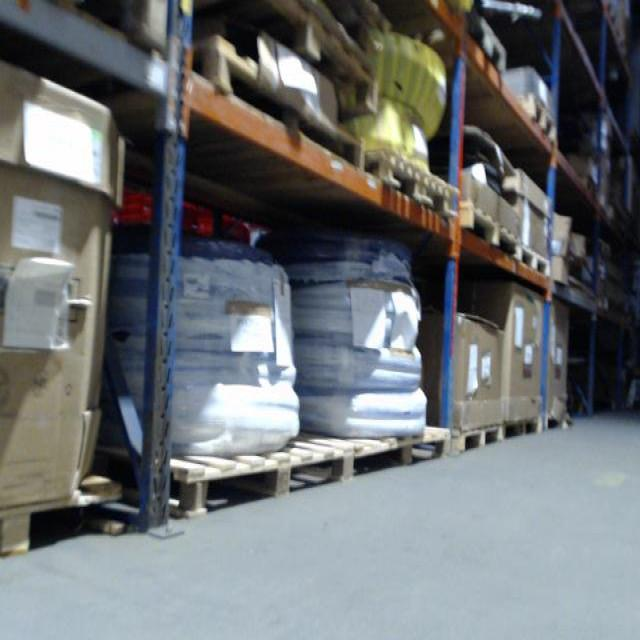pallet: (192, 38, 365, 173), (166, 432, 348, 522), (247, 0, 378, 114), (1, 468, 128, 560), (364, 146, 459, 220), (346, 425, 451, 484), (459, 200, 520, 260), (465, 9, 509, 74), (515, 89, 557, 144), (451, 421, 502, 459), (516, 241, 550, 279), (502, 415, 539, 443)
